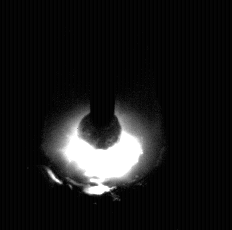arame: (90, 0, 116, 149)
poca: (42, 0, 166, 230)
